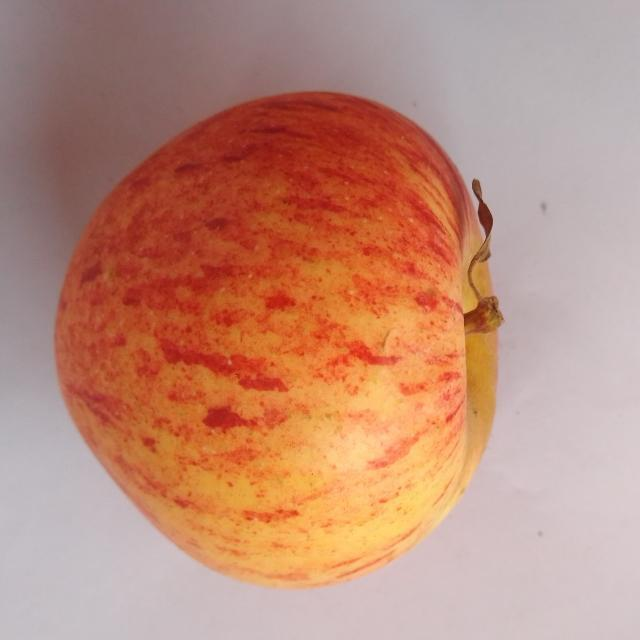Fresh Apple: (53, 97, 497, 570)
